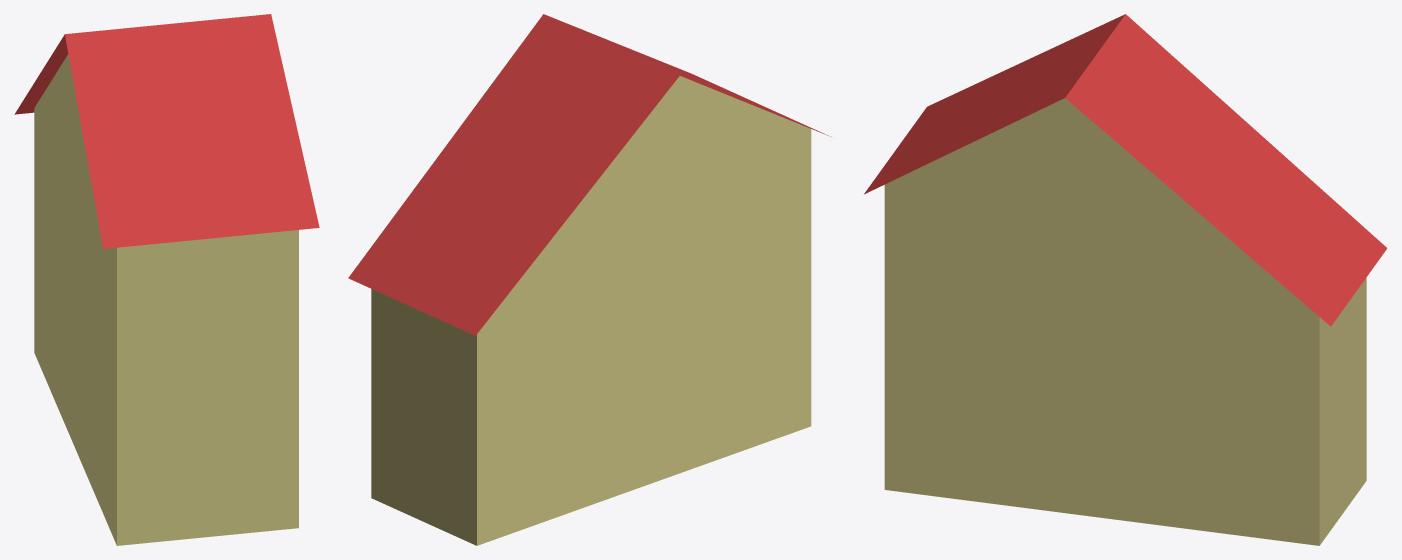
The picture shows the model from 3 angles, left to right: view 1: azimuth 30°, elevation 25°; view 2: azimuth 150°, elevation 25°; view 3: azimuth 270°, elevation 25°; orthographic projection. The views are drawn at different scales.
Size of the model in its own units: 10.31 by 15.39 by 13.7.
